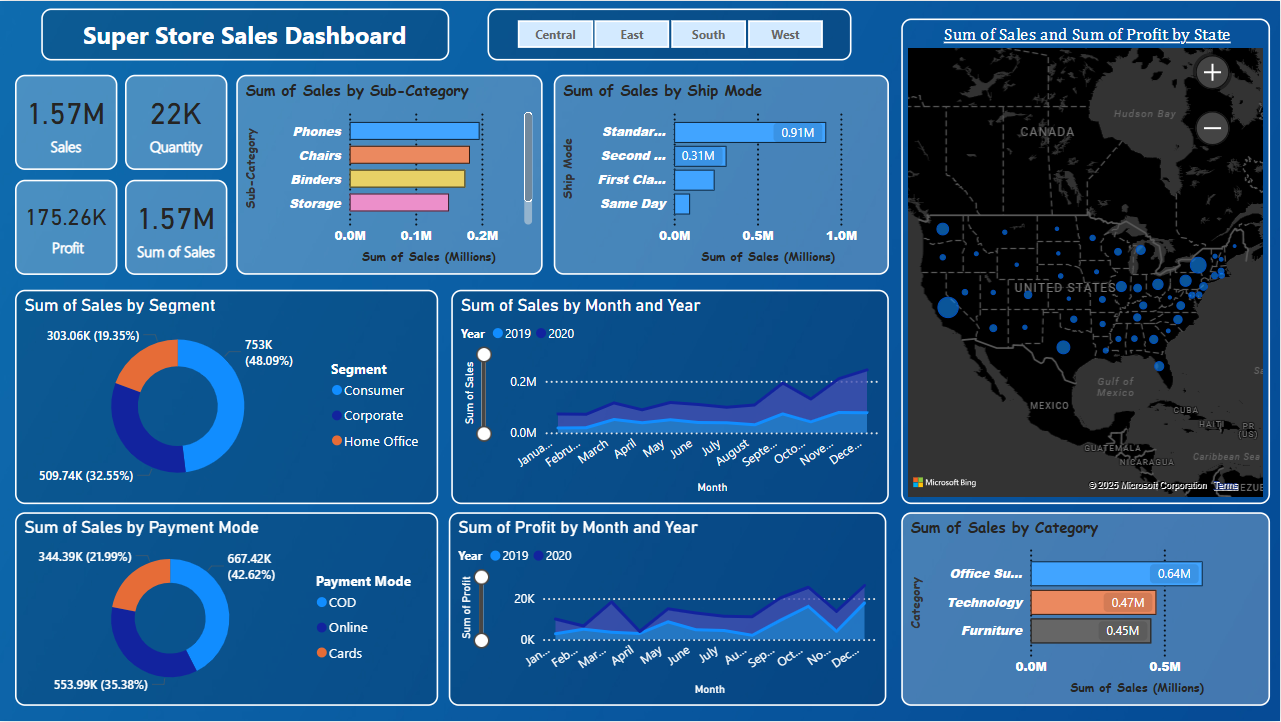

The page's visual inventory and layout, read from the dashboard file:
{"tool":"powerbi","page":{"name":"Page 1","canvas":[1280,720],"ordinal":0},"visuals":[{"type":"clusteredBarChart","fields":{"Y":["Sum(Sheet1.Sales)"],"Category":["Sheet1.Category"]},"box":[901.3,511.7,368.8,193.5],"z":0},{"type":"clusteredBarChart","fields":{"Y":["Sum(Sheet1.Sales)"],"Category":["Sheet1.Sub-Category"]},"box":[236.4,74,306.5,200],"z":1000},{"type":"clusteredBarChart","fields":{"Category":["Sheet1.Ship Mode"],"Y":["Sum(Sheet1.Sales)"]},"box":[553.2,74,335.1,200],"z":2000},{"type":"stackedAreaChart","fields":{"Y":["Sum(Sheet1.Sales)"],"Series":["Sheet1.Order Date.Variation.Date Hierarchy.Year"],"Category":["Sheet1.Order Date.Variation.Date Hierarchy.Month"]},"box":[450.6,288.3,437.7,214.3],"z":3000},{"type":"stackedAreaChart","fields":{"Series":["Sheet1.Order Date.Variation.Date Hierarchy.Year"],"Category":["Sheet1.Order Date.Variation.Date Hierarchy.Month"],"Y":["Sum(Sheet1.Profit)"]},"box":[449.4,511.7,437.7,193.5],"z":4000},{"type":"map","fields":{"Category":["Sheet1.State"],"Size":["Sum(Sheet1.Sales)"]},"box":[901.3,16.9,368.8,485.7],"z":5000},{"type":"donutChart","fields":{"Y":["Sum(Sheet1.Sales)"],"Category":["Sheet1.Segment"]},"box":[15.6,288.3,423.4,214.3],"z":6000},{"type":"donutChart","fields":{"Y":["Sum(Sheet1.Sales)"],"Category":["Sheet1.Payment Mode"]},"box":[15.6,511.7,423.4,193.5],"z":7000},{"type":"slicer","fields":{"Values":["Sheet1.Region"]},"box":[487,7.8,363.6,51.9],"z":8000},{"type":"textbox","box":[41.6,7.8,407.8,51.9],"z":9000},{"type":"card","fields":{"Values":["Sum(Sheet1.Quantity)"]},"box":[124.7,74,102.6,94.8],"z":10000},{"type":"card","fields":{"Values":["Sum(Sheet1.Sales)"]},"box":[124.7,179.2,102.6,94.8],"z":11000},{"type":"card","fields":{"Values":["Sum(Sheet1.Profit)"]},"box":[15.6,179.2,102.6,94.8],"z":12000},{"type":"card","fields":{"Values":["Sum(Sheet1.Sales)"]},"box":[15.6,74,102.6,94.8],"z":13000}]}

Visuals, with their boxes in screenshot pixels (x1, y1, x2, y2), scaled from the page's 1280x720 canvas onto the 1281x722 screenshot:
clusteredBarChart - Sum(Sheet1.Sales) x Sheet1.Category: detection(902, 513, 1271, 707)
clusteredBarChart - Sum(Sheet1.Sales) x Sheet1.Sub-Category: detection(237, 74, 543, 275)
clusteredBarChart - Sheet1.Ship Mode x Sum(Sheet1.Sales): detection(554, 74, 889, 275)
stackedAreaChart - Sum(Sheet1.Sales) x Sheet1.Order Date.Variation.Date Hierarchy.Year: detection(451, 289, 889, 504)
stackedAreaChart - Sheet1.Order Date.Variation.Date Hierarchy.Year x Sheet1.Order Date.Variation.Date Hierarchy.Month: detection(450, 513, 888, 707)
map - Sheet1.State x Sum(Sheet1.Sales): detection(902, 17, 1271, 504)
donutChart - Sum(Sheet1.Sales) x Sheet1.Segment: detection(16, 289, 439, 504)
donutChart - Sum(Sheet1.Sales) x Sheet1.Payment Mode: detection(16, 513, 439, 707)
slicer - Sheet1.Region: detection(487, 8, 851, 60)
textbox: detection(42, 8, 450, 60)
card - Sum(Sheet1.Quantity): detection(125, 74, 227, 169)
card - Sum(Sheet1.Sales): detection(125, 180, 227, 275)
card - Sum(Sheet1.Profit): detection(16, 180, 118, 275)
card - Sum(Sheet1.Sales): detection(16, 74, 118, 169)
